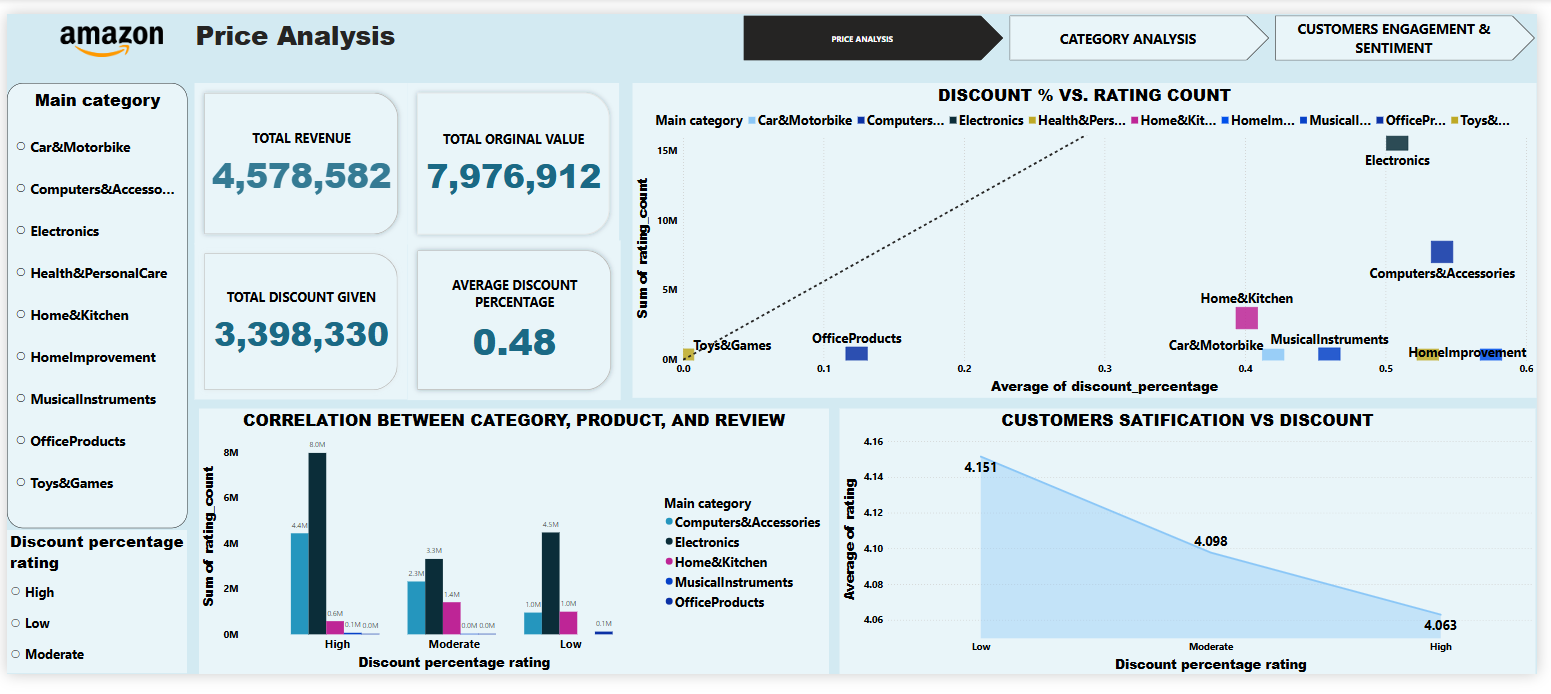

The dashboard page shown, as its layout file describes it:
{"tool":"powerbi","page":{"name":"PRICE ANALYSIS","canvas":[2550,1100],"ordinal":1},"visuals":[{"type":"image","box":[43.6,15.4,264.4,61.6],"z":0},{"type":"textbox","box":[264.4,0,431.3,89.8],"z":1000},{"type":"cardVisual","fields":{"Data":["AMAZON E-COMMERCE SALES.TOTAL REVENUE"]},"box":[313.2,114.3,355.4,268.4],"z":2000},{"type":"cardVisual","fields":{"Data":["AMAZON E-COMMERCE SALES.TOTAL ORGINAL VALUE"]},"box":[668.6,114.3,352.9,268.4],"z":3000},{"type":"cardVisual","fields":{"Data":["AMAZON E-COMMERCE SALES.TOTAL DISCOUNT GIVEN"]},"box":[312.1,382.5,355,260.1],"z":4000},{"type":"cardVisual","fields":{"Data":["AMAZON E-COMMERCE SALES.AVERAGE DISCOUNT PERCENTAGE"]},"box":[668.6,377.8,355.4,265.9],"z":5000},{"type":"scatterChart","title":"DISCOUNT % VS. RATING COUNT","fields":{"Y":["Sum(AMAZON E-COMMERCE SALES.rating_count)"],"X":["Avg(AMAZON E-COMMERCE SALES.discount_percentage)"],"Series":["AMAZON E-COMMERCE SALES.Main category"]},"box":[1042.5,114.3,1506.6,524.6],"z":6000},{"type":"clusteredColumnChart","title":"CORRELATION BETWEEN CATEGORY, PRODUCT, AND REVIEW","fields":{"Category":["AMAZON E-COMMERCE SALES.Discount percentage rating"],"Y":["Sum(AMAZON E-COMMERCE SALES.rating_count)"],"Series":["AMAZON E-COMMERCE SALES.Main category"]},"box":[320,657.5,1050,442.5],"z":7000},{"type":"lineChart","title":"CUSTOMERS SATIFICATION VS DISCOUNT","fields":{"Category":["AMAZON E-COMMERCE SALES.Discount percentage rating"],"Y":["Avg(AMAZON E-COMMERCE SALES.rating)"]},"box":[1387.5,657.5,1160,445],"z":8000},{"type":"listSlicer","fields":{"Values":["AMAZON E-COMMERCE SALES.Main category"]},"box":[0,114.3,300.4,742.1],"z":9000},{"type":"listSlicer","fields":{"Values":["AMAZON E-COMMERCE SALES.Discount percentage rating"]},"box":[0,859.9,299.9,238.7],"z":10000},{"type":"pageNavigator","box":[1227.7,3,1321.3,75.4],"z":11000}]}

Visuals, with their boxes on the page's 2550x1100 design canvas (x1, y1, x2, y2). These are canvas units, not pixel positions in the 1551x694 screenshot, which may show the page scaled, cropped or inside an application window:
image: crop(44, 15, 308, 77)
textbox: crop(264, 0, 696, 90)
cardVisual - AMAZON E-COMMERCE SALES.TOTAL REVENUE: crop(313, 114, 669, 383)
cardVisual - AMAZON E-COMMERCE SALES.TOTAL ORGINAL VALUE: crop(669, 114, 1022, 383)
cardVisual - AMAZON E-COMMERCE SALES.TOTAL DISCOUNT GIVEN: crop(312, 382, 667, 643)
cardVisual - AMAZON E-COMMERCE SALES.AVERAGE DISCOUNT PERCENTAGE: crop(669, 378, 1024, 644)
"DISCOUNT % VS. RATING COUNT" scatterChart: crop(1042, 114, 2549, 639)
"CORRELATION BETWEEN CATEGORY, PRODUCT, AND REVIEW" clusteredColumnChart: crop(320, 658, 1370, 1100)
"CUSTOMERS SATIFICATION VS DISCOUNT" lineChart: crop(1388, 658, 2548, 1102)
listSlicer - AMAZON E-COMMERCE SALES.Main category: crop(0, 114, 300, 856)
listSlicer - AMAZON E-COMMERCE SALES.Discount percentage rating: crop(0, 860, 300, 1099)
pageNavigator: crop(1228, 3, 2549, 78)
